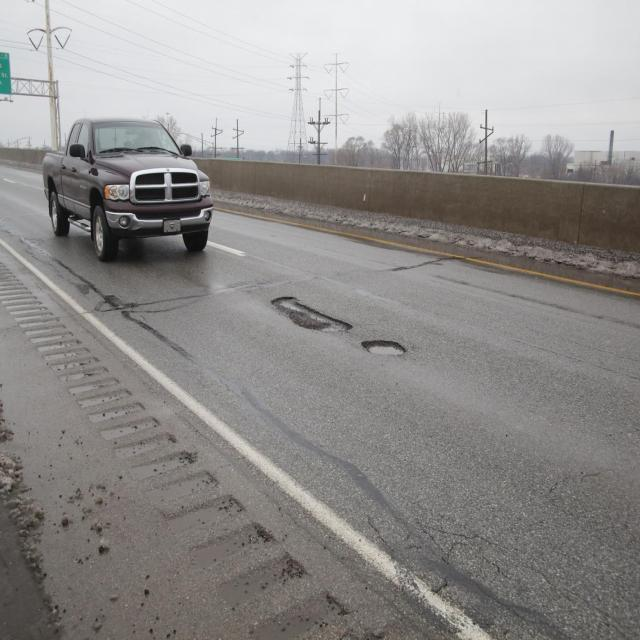Pothole: (272, 291, 350, 333), (361, 338, 407, 356)
